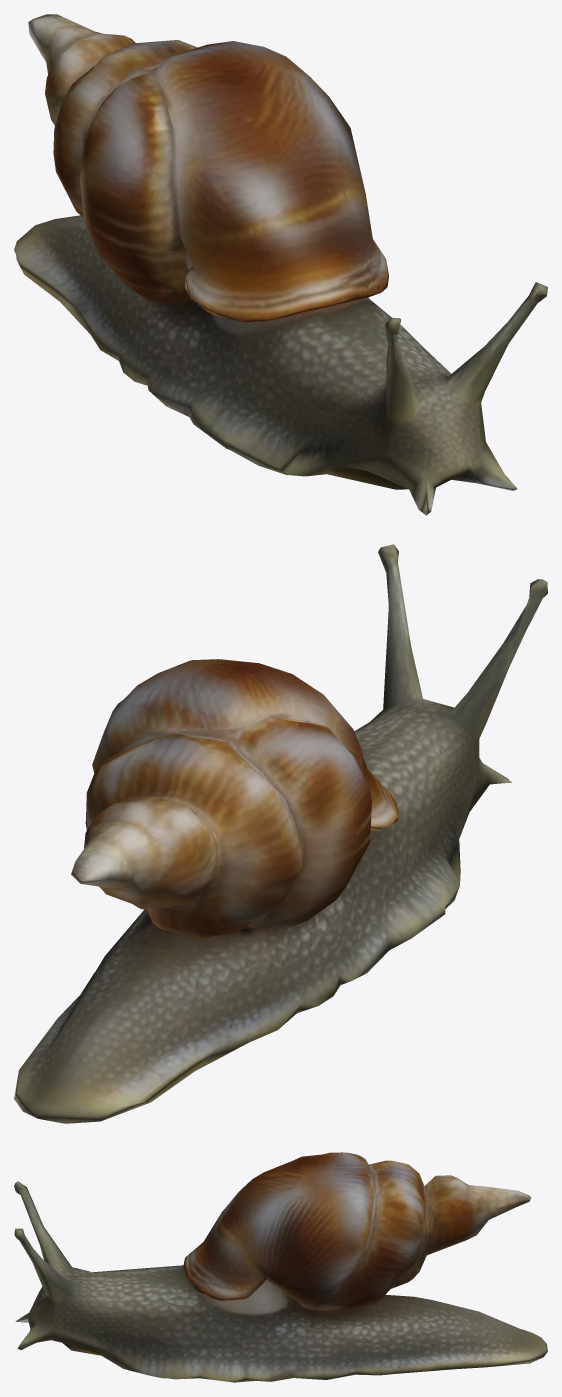
File: pond-snail_lo.glb
3 renders of one model, top to bottom at view 1: azimuth 30°, elevation 25°; view 2: azimuth 150°, elevation 25°; view 3: azimuth 270°, elevation 25°, orthographic. The views are drawn at different scales.
Visible parts, largest first — view 1: geometry_0; view 2: geometry_0; view 3: geometry_0.
Boxes of the visible parts, x1,y1,x2,y2 form: geometry_0: (14,14,547,515); geometry_0: (14,544,547,1123); geometry_0: (14,1152,547,1382).
Bounding box in the file's own units: 0.3371 × 0.399 × 0.9997.
Materials: 1 (1 with a texture image).
